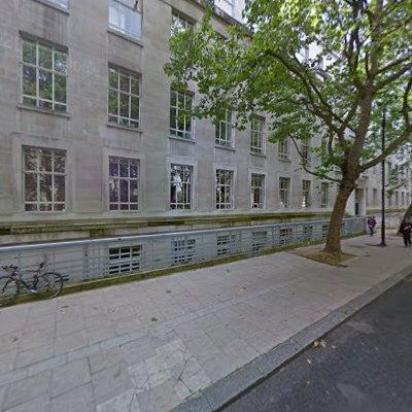stationary-bicycle-onstreet: (0, 256, 66, 312)
